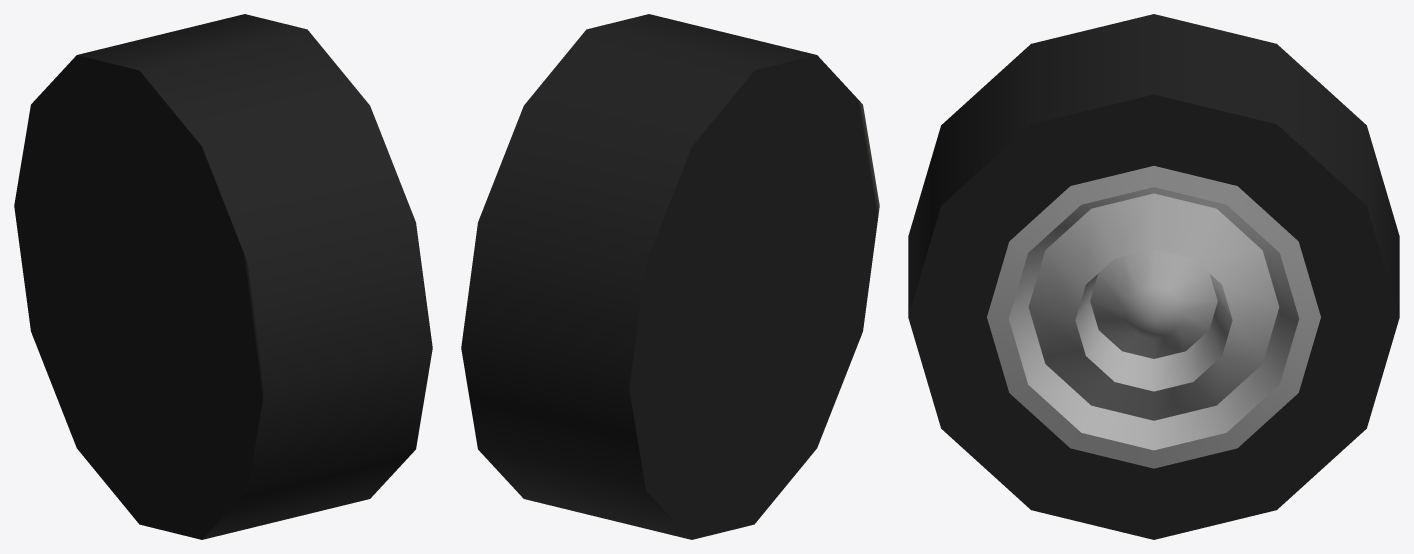
The model's file is GremlinWheel.fbx.
3 views of the same model, side by side, from view 1: azimuth 30°, elevation 25°; view 2: azimuth 150°, elevation 25°; view 3: azimuth 270°, elevation 25° (orthographic).
Visible parts, largest first — view 1: WheelFrontLeft; view 2: WheelFrontLeft; view 3: WheelFrontLeft.
Part boxes in pixels (x1,y1,x2,y2): WheelFrontLeft: [14, 14, 432, 539]; WheelFrontLeft: [461, 14, 879, 539]; WheelFrontLeft: [908, 14, 1399, 539].
Size of the model in its own units: 0.2467 by 0.6132 by 0.6132.
